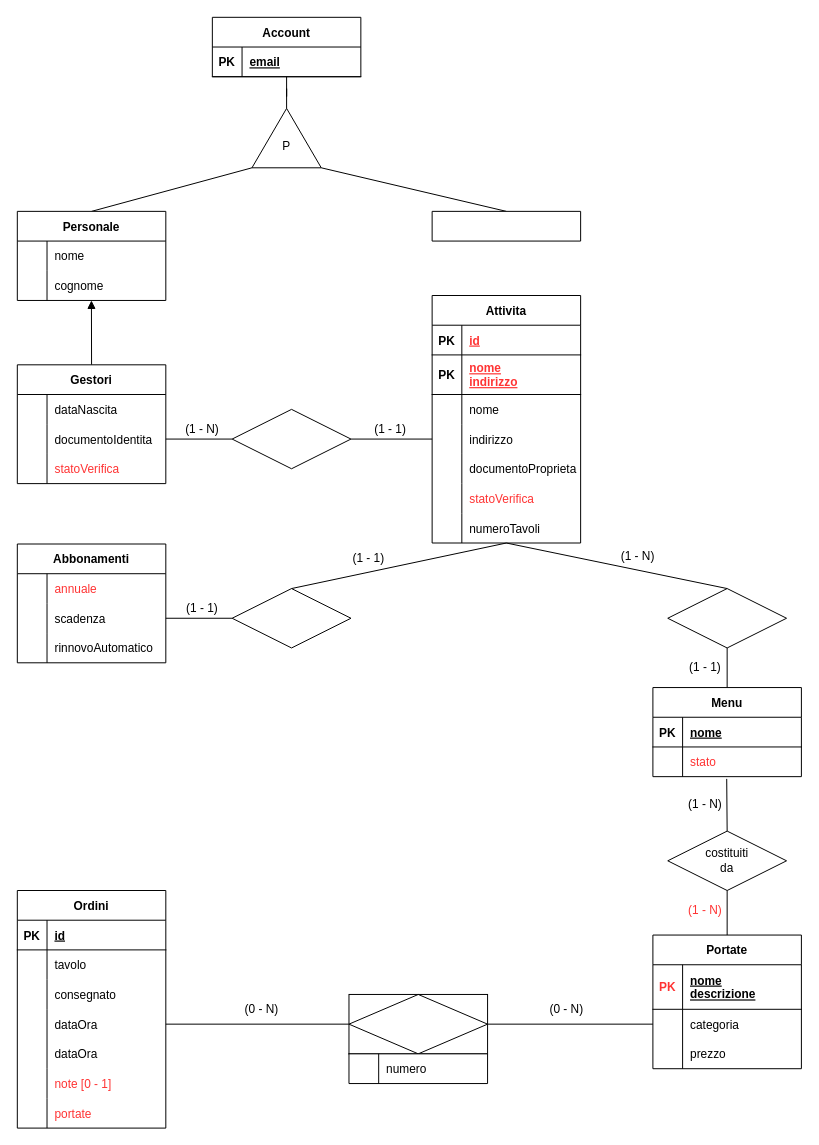
Some shapes in this 819 by 1145 pixel diagram are drawn without their labels. The centre of each missing label's shape, as x and y in pixels:
Assistenza: point 506,225
attivate da: point 291,618
creano: point 727,618
possiedono: point 291,438
Quantita: point 418,1023
